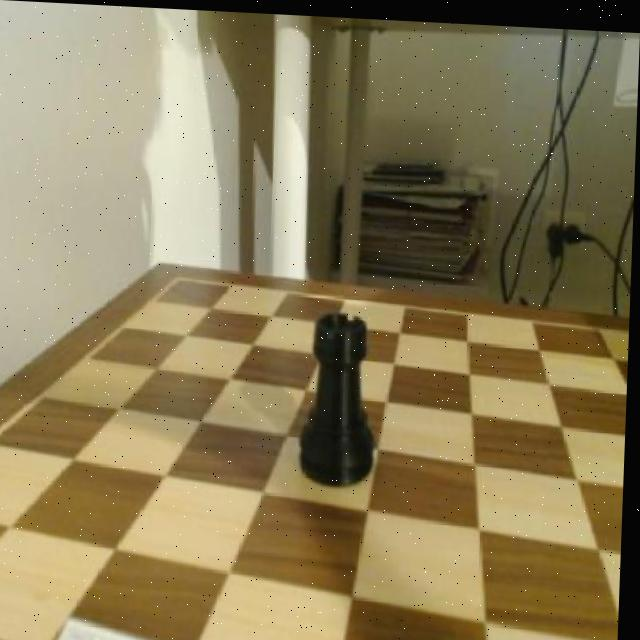black-queen: (297, 302, 386, 487)
